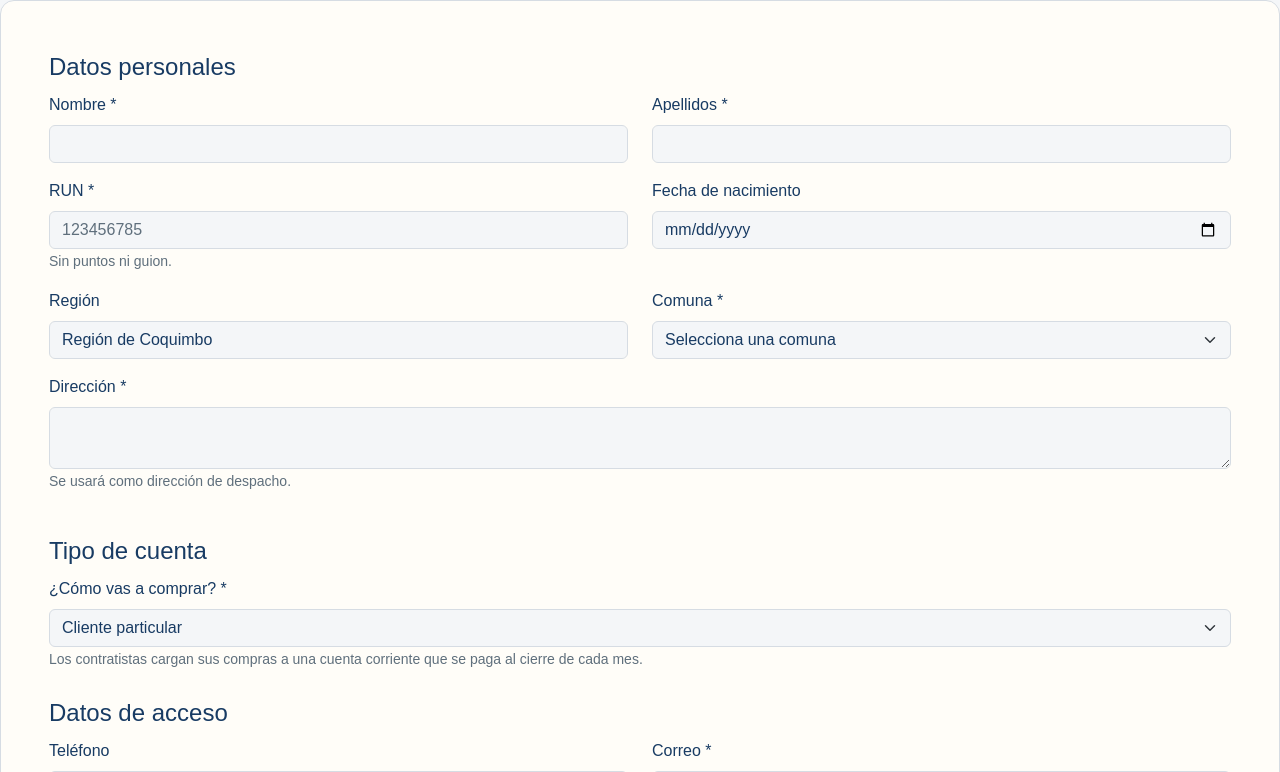
Scenario: RegistroContainer › valida el RUN mientras se escribe
Type "123" into the field labelled "RUN *". click: (338, 230)
box: [49, 211, 628, 249]
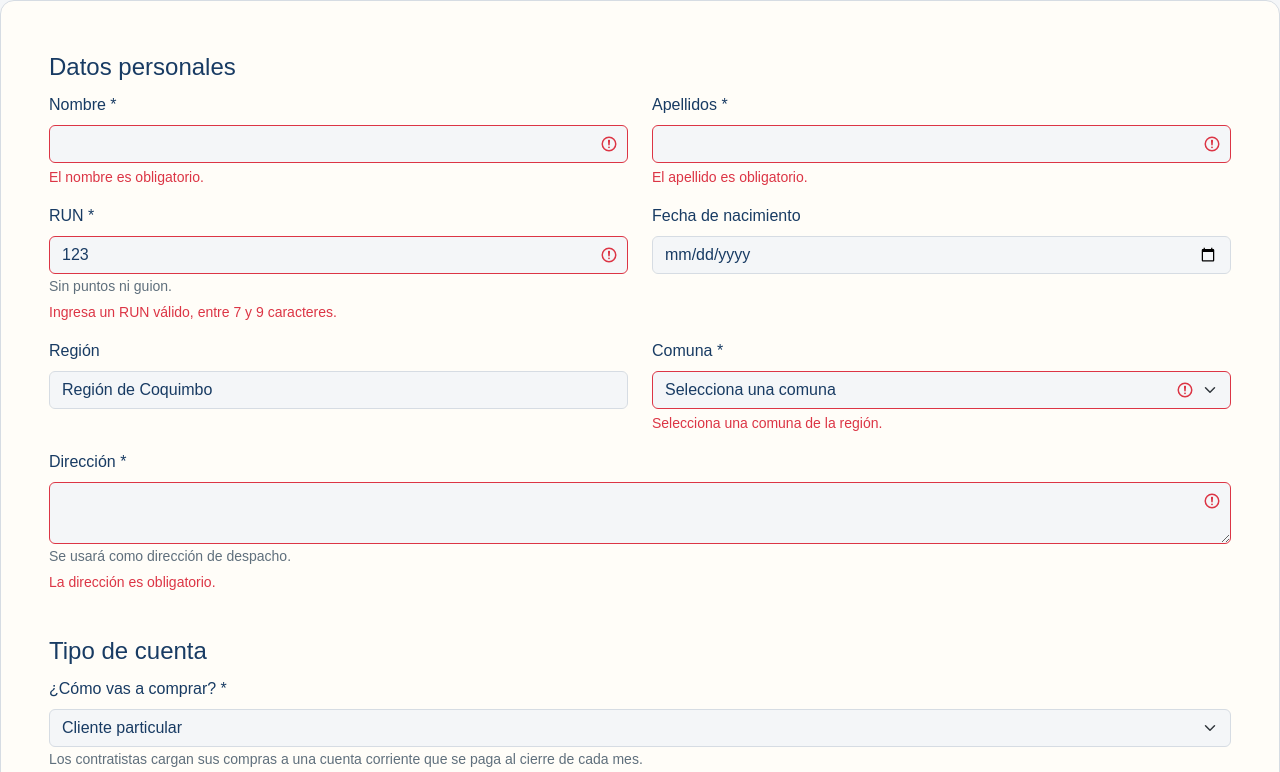
Result: the text "Ingresa un RUN válido, entre 7 y 9 caracteres." is shown at [49, 304, 337, 320]
